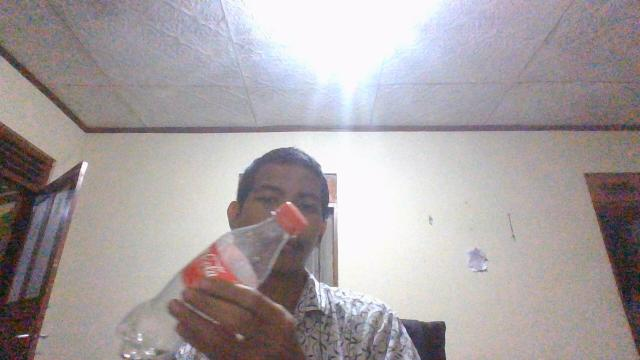coca-cola: (109, 201, 304, 360)
